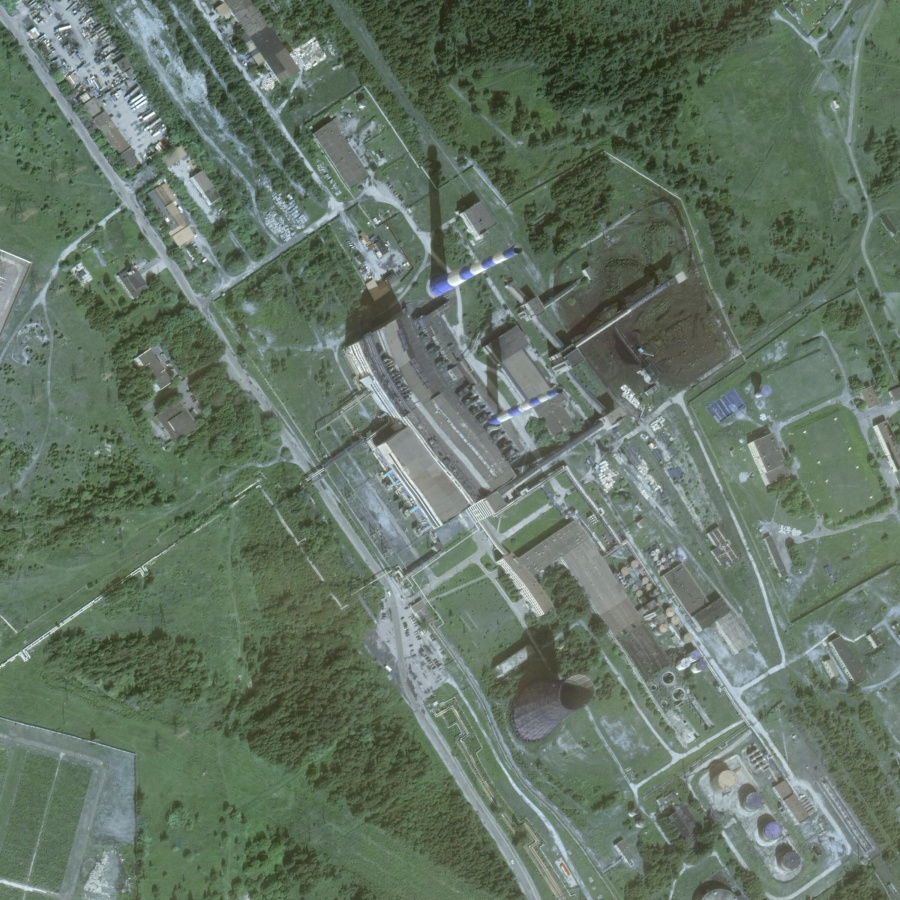PowerPlant: (396, 172, 702, 555), (485, 623, 614, 753), (699, 754, 802, 873)
